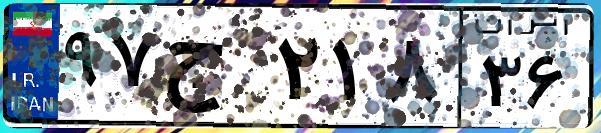1: (330, 28, 385, 110)
2: (270, 28, 330, 110)
3: (475, 38, 525, 113)
6: (525, 38, 570, 115)
7: (110, 28, 158, 98)
8: (385, 28, 445, 110)
9: (57, 26, 110, 100)
ج: (158, 20, 270, 120)
